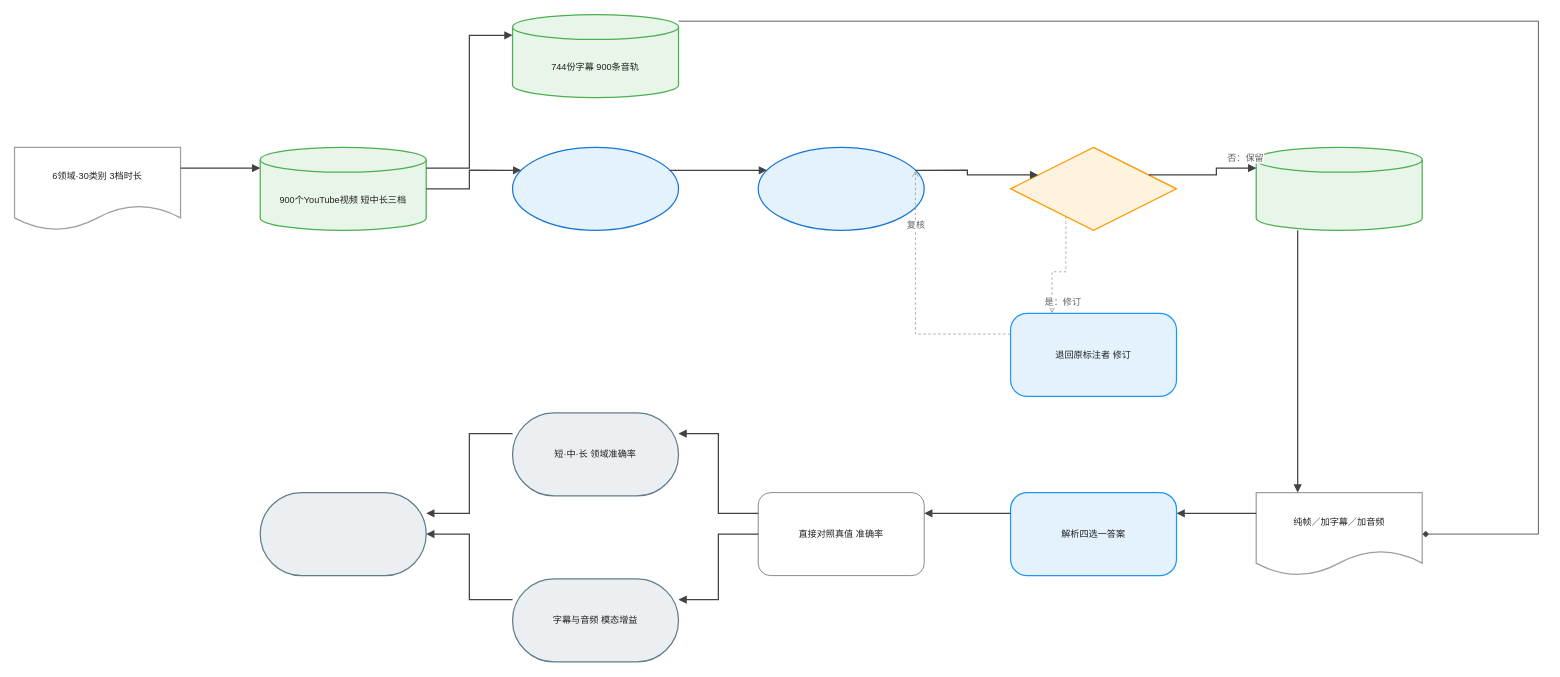
Some shapes in this 1560 by 677 pixel diagram are drawn without their labels. The centre of each missing label's shape, as x and y in pixels:
"2700组问答" belongs at (1338,188).
"Gemini 1.5 Pro判断 纯文本可答？" belongs at (1093,188).
"Video-MME评测结果" belongs at (342,534).
"专家完整观看视频 每片3道四选一·12任务" belongs at (595,188).
"独立人工复核 语言·答案·选项" belongs at (840,188).
